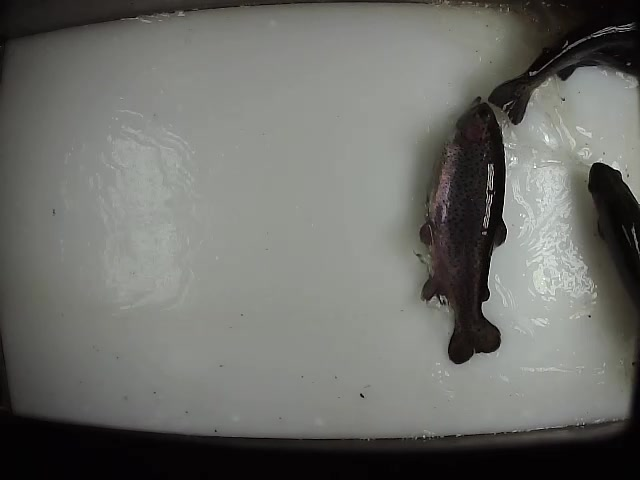fish: (418, 101, 510, 367)
